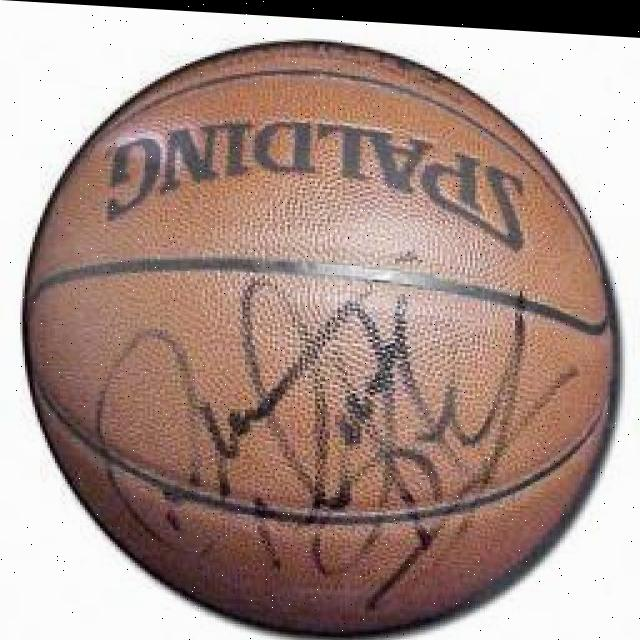Basketball: (22, 24, 619, 640)
